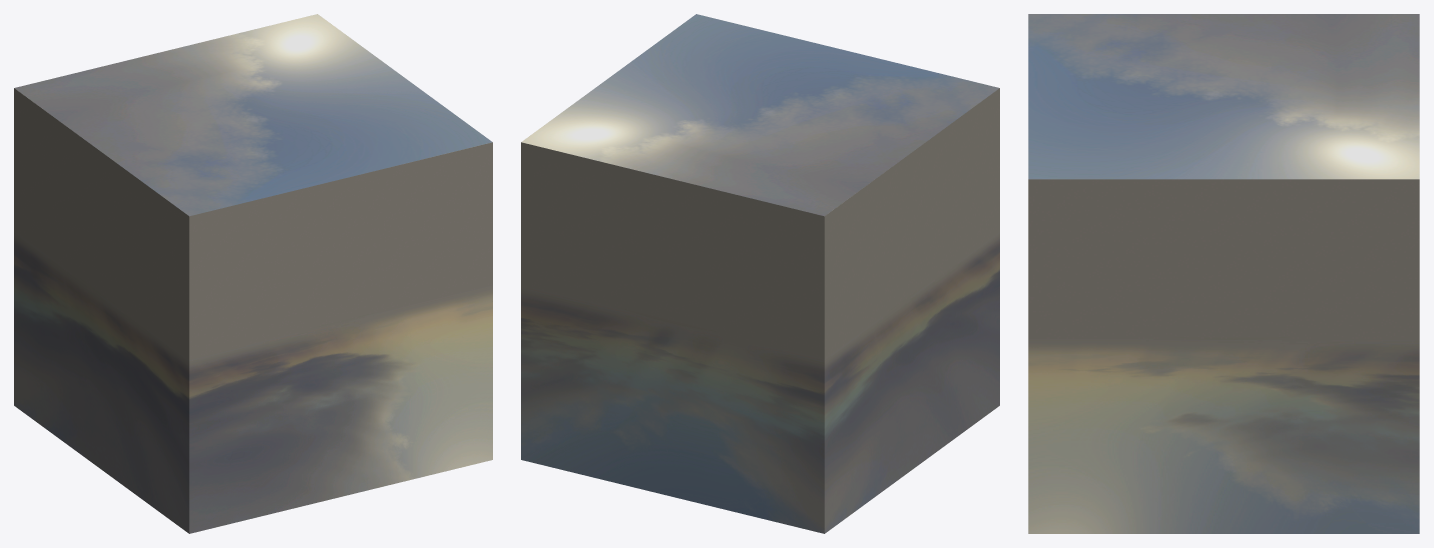
File: Skybox.obj
3 renders of one model, left to right at view 1: azimuth 30°, elevation 25°; view 2: azimuth 150°, elevation 25°; view 3: azimuth 270°, elevation 25°, orthographic. The views are drawn at different scales.
Parts seen in each view (by area): view 1: nurbsToPoly3, nurbsToPoly6, nurbsToPoly1; view 2: nurbsToPoly4, nurbsToPoly6, nurbsToPoly1; view 3: nurbsToPoly5, nurbsToPoly1.
Boxes of the visible parts, x1,y1,x2,y2 form: nurbsToPoly3: (189,142,492,533); nurbsToPoly6: (14,88,189,533); nurbsToPoly1: (14,14,492,216); nurbsToPoly4: (521,142,824,533); nurbsToPoly6: (824,88,999,533); nurbsToPoly1: (521,14,999,216); nurbsToPoly5: (1028,179,1419,533); nurbsToPoly1: (1028,14,1419,179).
Size of the model in its own units: 8 by 8 by 8.
